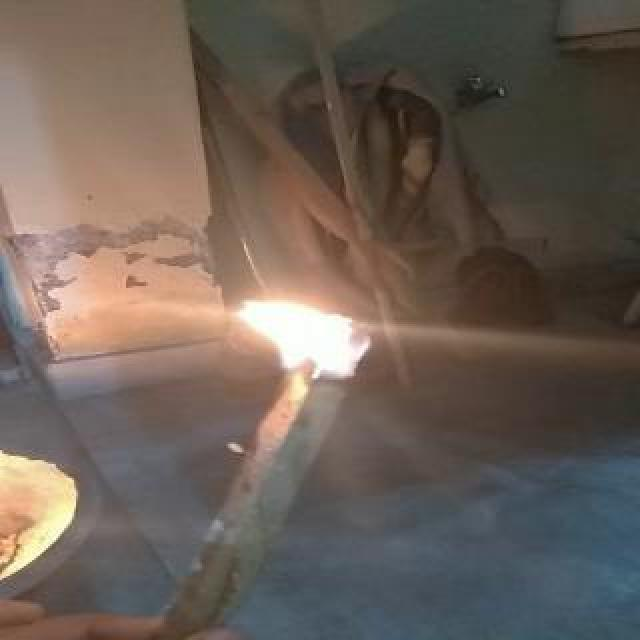zfire: (222, 278, 428, 406)
